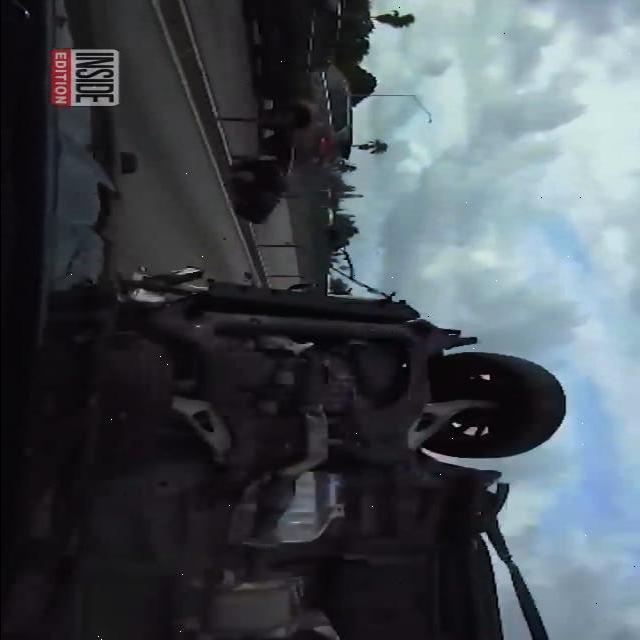accident: (103, 270, 589, 640)
non_accident: (235, 0, 382, 206)
